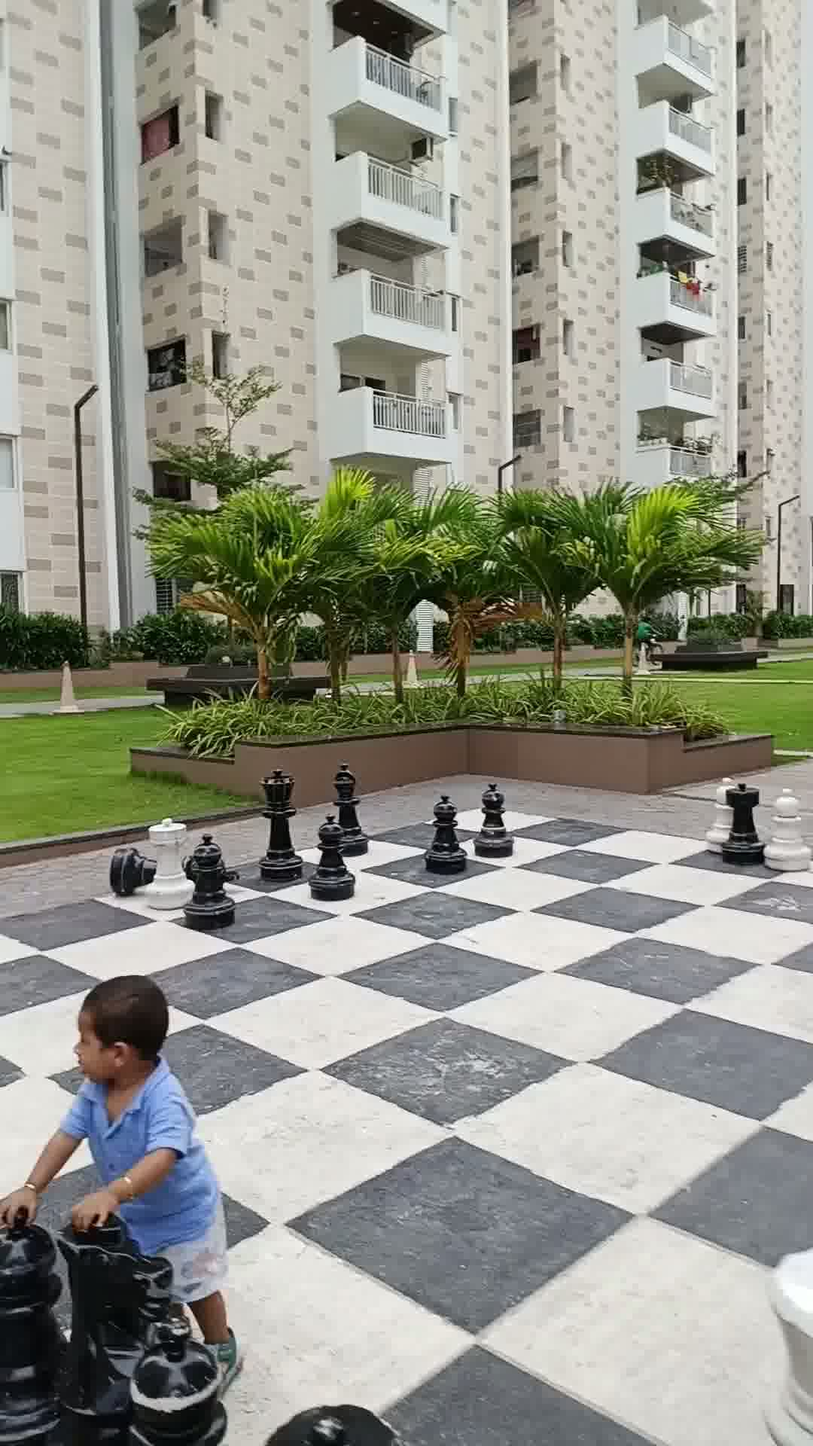person: (11, 945, 253, 1363)
tree: (560, 447, 760, 717), (134, 481, 310, 720), (390, 467, 526, 714), (504, 453, 620, 706), (276, 473, 390, 706), (151, 327, 302, 490)
